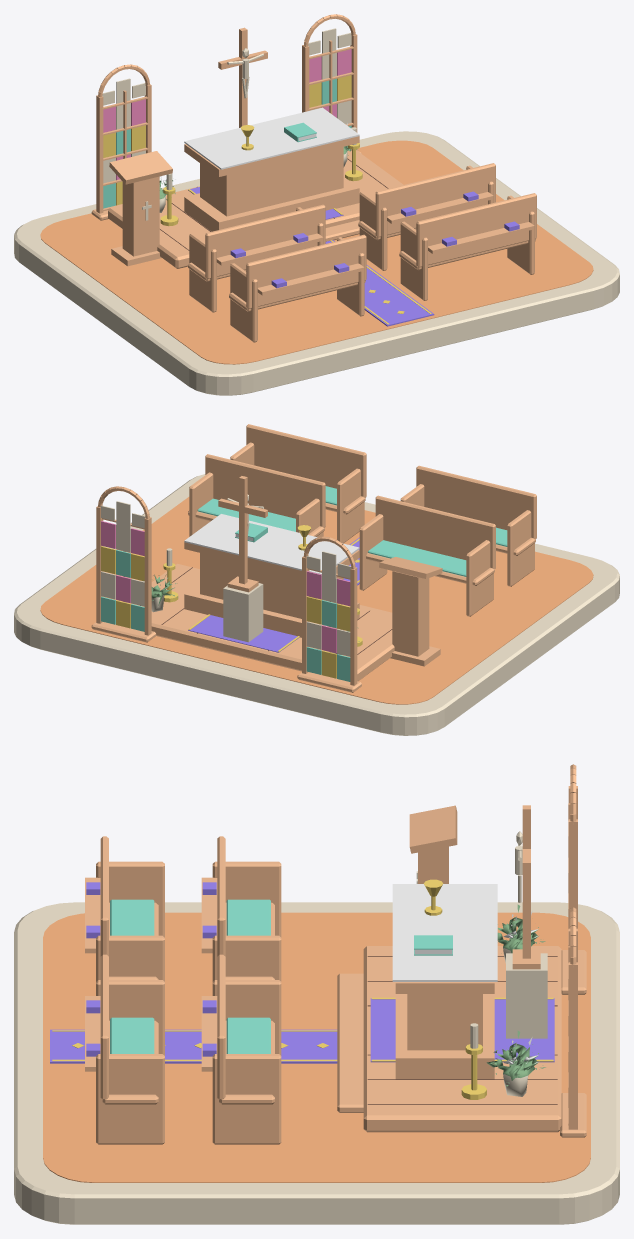
3 renders of one model, top to bottom at view 1: azimuth 30°, elevation 25°; view 2: azimuth 150°, elevation 25°; view 3: azimuth 270°, elevation 25°, orthographic. The views are drawn at different scales.
Visible parts, largest first — view 1: COM-02 Floor Surface, COM-01 Rounded Base Direct, Altar, Altar cloth, Back.002, Back.003, Sanctuary platform, Back.001, Back, Base, Body, Aisle runner (+17 smaller); view 2: COM-01 Rounded Base Direct, COM-02 Floor Surface, Sanctuary platform, Back, Back.002, Back.003, Back.001, Altar cloth, Altar, Body, Display plinth, Base (+24 smaller); view 3: COM-02 Floor Surface, COM-01 Rounded Base Direct, Sanctuary platform, Altar cloth, End panel.002, End panel.006, Aisle runner, Base, Altar, Entry step, Stage carpet, Display plinth (+30 smaller).
Part boxes in pixels (x1=…): COM-02 Floor Surface: x1=40, y1=140, x2=593, y2=364; COM-01 Rounded Base Direct: x1=14, y1=131, x2=619, y2=395; Altar: x1=200, y1=147, x2=343, y2=216; Altar cloth: x1=184, y1=107, x2=359, y2=169; Back.002: x1=246, y1=234, x2=366, y2=308; Back.003: x1=416, y1=193, x2=536, y2=267; Sanctuary platform: x1=108, y1=149, x2=403, y2=268; Back.001: x1=375, y1=163, x2=495, y2=237; Back: x1=205, y1=204, x2=325, y2=279; Base: x1=184, y1=177, x2=359, y2=231; Body: x1=122, y1=176, x2=159, y2=256; Aisle runner: x1=325, y1=240, x2=434, y2=326; COM-01 Rounded Base Direct: x1=14, y1=474, x2=619, y2=735; COM-02 Floor Surface: x1=40, y1=497, x2=593, y2=704; Sanctuary platform: x1=127, y1=563, x2=394, y2=681; Back: x1=375, y1=495, x2=495, y2=569; Back.002: x1=416, y1=465, x2=536, y2=539; Back.003: x1=246, y1=424, x2=366, y2=497; Back.001: x1=205, y1=454, x2=325, y2=527; Altar cloth: x1=184, y1=514, x2=359, y2=574; Altar: x1=200, y1=553, x2=343, y2=618; Body: x1=392, y1=571, x2=429, y2=656; Display plinth: x1=223, y1=583, x2=263, y2=642; Base: x1=184, y1=583, x2=359, y2=637; COM-02 Floor Surface: x1=43, y1=912, x2=590, y2=1182; COM-01 Rounded Base Direct: x1=14, y1=902, x2=619, y2=1224; Sanctuary platform: x1=363, y1=946, x2=561, y2=1132; Altar cloth: x1=392, y1=884, x2=497, y2=981; End panel.002: x1=212, y1=1054, x2=281, y2=1144; End panel.006: x1=96, y1=1054, x2=164, y2=1144; Aisle runner: x1=50, y1=1029, x2=337, y2=1063; Base: x1=395, y1=994, x2=494, y2=1079; Altar: x1=407, y1=994, x2=482, y2=1050; Entry step: x1=337, y1=973, x2=363, y2=1112; Stage carpet: x1=370, y1=998, x2=554, y2=1062; Display plinth: x1=506, y1=953, x2=547, y2=1038.
Bounding box in the file's own units: 6 × 2.57 × 5.2.
1 material, 1 textured.
